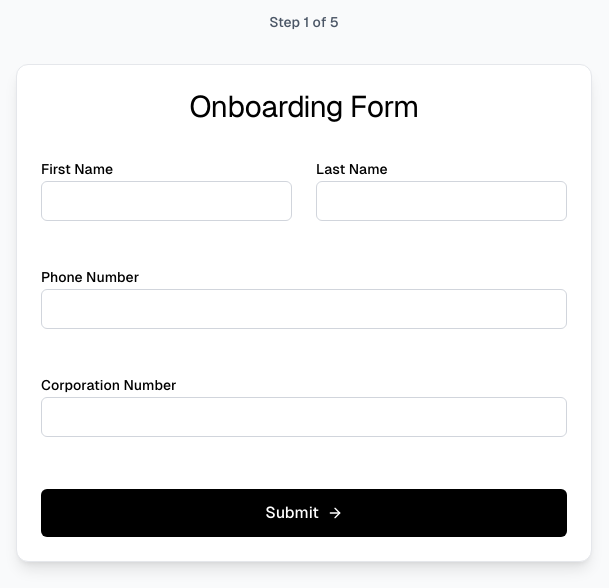
Test case: PersonalDetailsStep › validates phone number format and Canadian area code separately
The width and height of the screenshot is (609, 588).
Note: Test 1: Invalid format - missing +1
Type "123" into the field labelled "Phone Number". click: [304, 309]
box: [41,289,567,329]
Leave the field labelled "Phone Number", box [41,289,567,329]
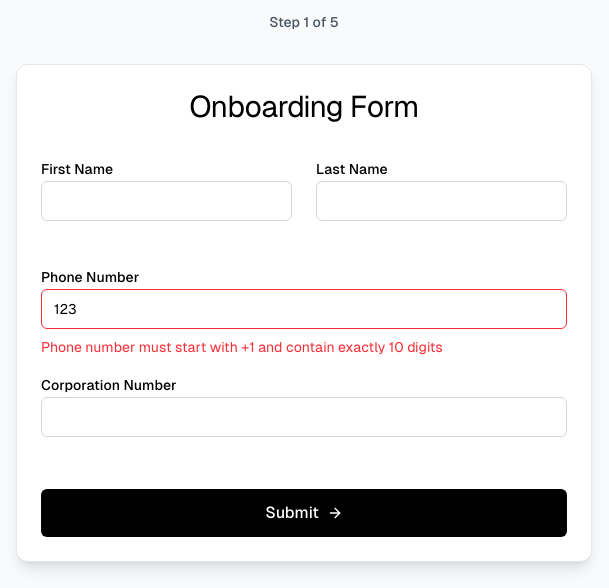
Now the text "Phone number must start with +1 and contain exactly 10 digits" is shown, box [41,339,443,355]
Note: Test 2: Invalid format - wrong number of digits (too few)
Replace the text in the field labelled "Phone Number" with "+112345". click: [304, 309]
box: [41,289,567,329]
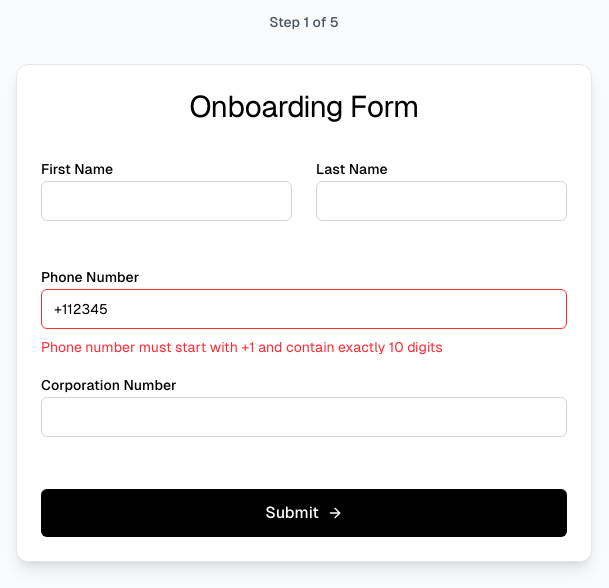
Expected: the text "Phone number must be a valid Canadian number" is not shown
Now the text "Phone number must start with +1 and contain exactly 10 digits" is shown, box [41,339,443,355]
Note: Test 3: Invalid format - wrong number of digits (too many)
Replace the text in the field labelled "Phone Number" with "+112345678901". click: [304, 309]
box: [41,289,567,329]
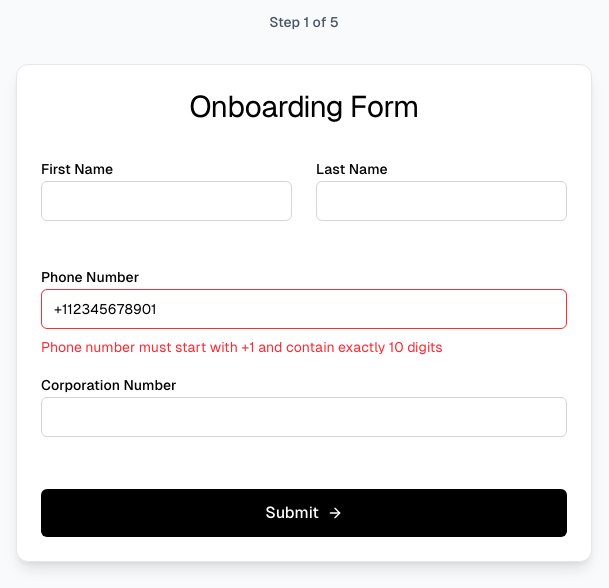
Expected: the text "Phone number must be a valid Canadian number" is not shown
Now the text "Phone number must start with +1 and contain exactly 10 digits" is shown, box [41,339,443,355]
Replace the text in the field labelled "Phone Number" with "+12125551234". click: [304, 309]
box: [41,289,567,329]
Leave the field labelled "Phone Number", box [41,289,567,329]
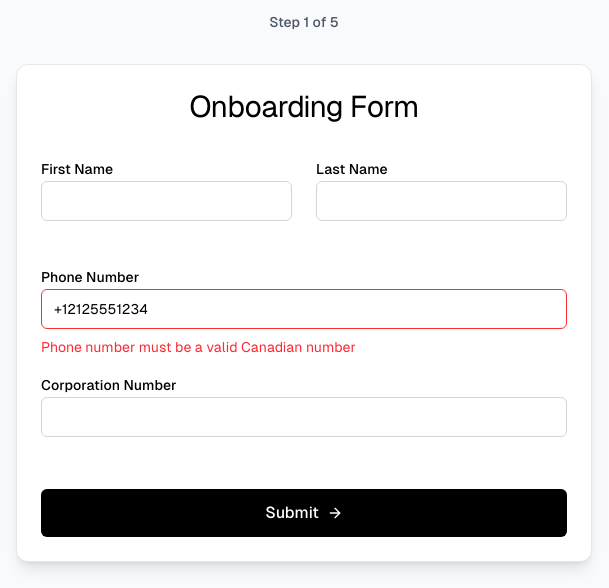
Now the text "Phone number must start with +1 and contain exactly 10 digits" is gone
Now the text "Phone number must be a valid Canadian number" is shown, box [41,339,356,355]
Replace the text in the field labelled "Phone Number" with "+13062776103". click: [304, 309]
box: [41,289,567,329]
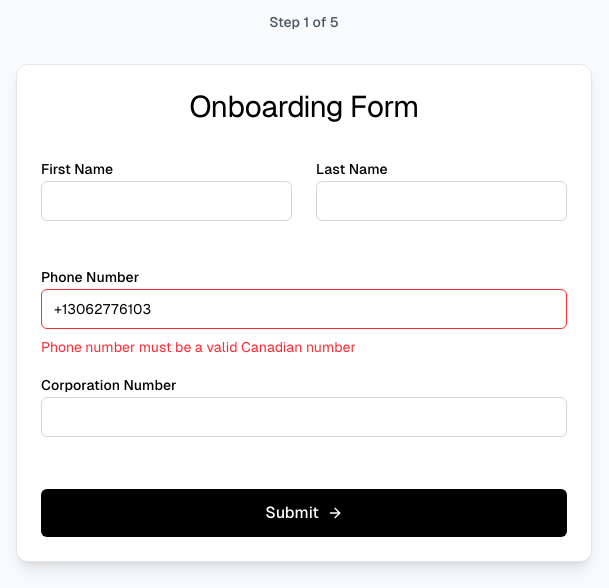
Leave the field labelled "Phone Number", box [41,289,567,329]
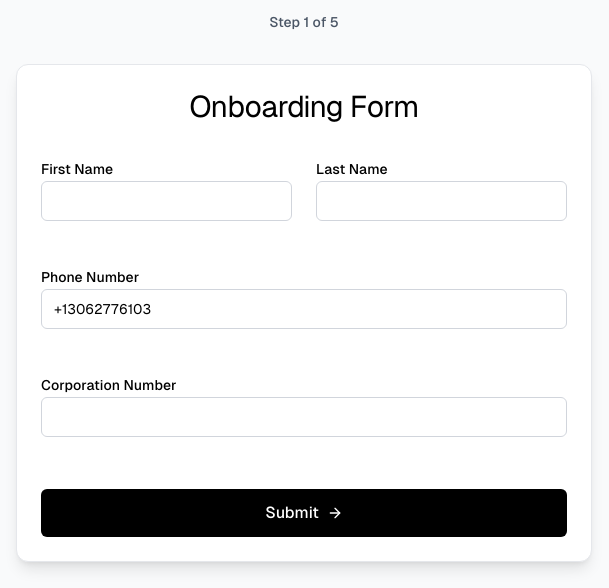
Expected: the text "Phone number must start with +1 and contain exactly 10 digits" is not shown
Now the text "Phone number must be a valid Canadian number" is gone
